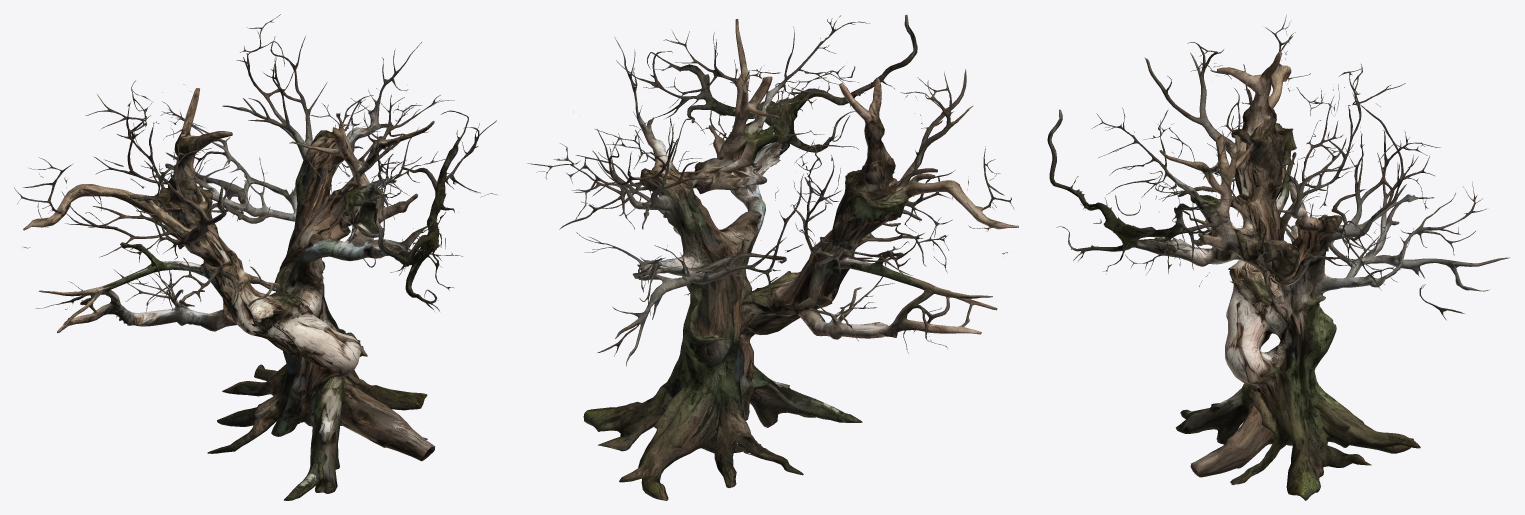
The model's file is tree-high.glb.
The picture shows the model from 3 angles, left to right: view 1: azimuth 30°, elevation 25°; view 2: azimuth 150°, elevation 25°; view 3: azimuth 270°, elevation 25°; orthographic projection. The views are drawn at different scales.
Parts seen in each view (by area): view 1: Twisted tree high; view 2: Twisted tree high; view 3: Twisted tree high.
Boxes of the visible parts, x1,y1,x2,y2 form: Twisted tree high: (14,14,496,500); Twisted tree high: (527,14,1018,500); Twisted tree high: (1047,15,1509,500).
Size of the model in its own units: 1.2 by 1 by 1.21.
1 material, 1 textured.
